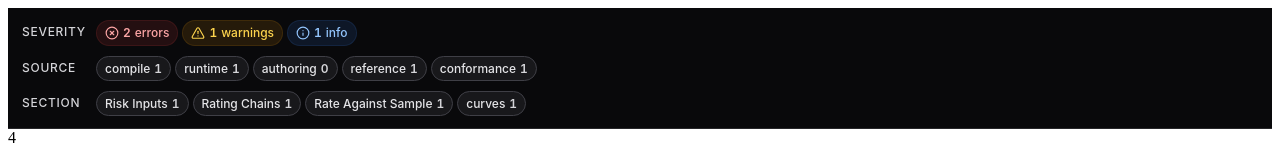
it: <ErrorFilter> › clicking a source chip toggles the filter
What coordinates should you click on to do the following:
click the button "compile 1"
I would click on:
 (134, 69)
Its box is x1=96 y1=56 x2=171 y2=81.
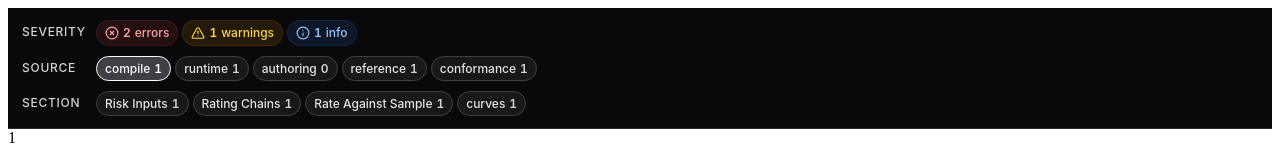
expect the text with test id "visible-count" reads "1": met, box x1=8 y1=129 x2=16 y2=146
